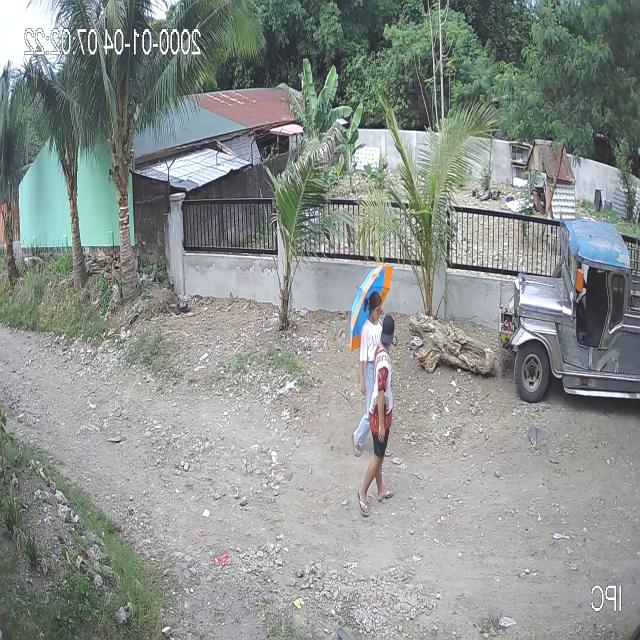walking: (347, 256, 400, 461), (356, 312, 396, 520)
